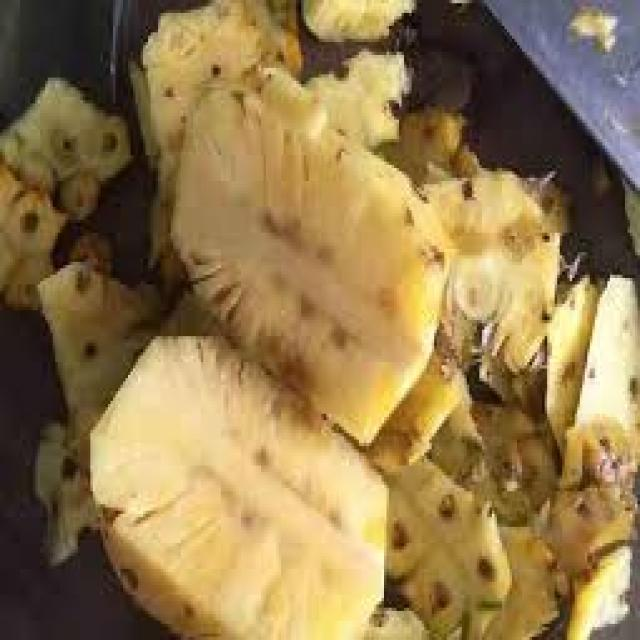organic waste: (176, 64, 449, 440), (88, 329, 391, 636), (138, 0, 296, 294), (35, 262, 158, 562), (422, 171, 564, 372), (382, 456, 509, 637), (0, 68, 128, 220), (560, 268, 638, 475), (442, 404, 557, 514), (374, 352, 467, 472), (466, 517, 554, 637), (304, 48, 409, 148), (540, 268, 594, 456), (542, 478, 635, 582), (0, 155, 60, 307), (376, 103, 474, 181), (562, 540, 628, 637), (299, 0, 414, 36), (63, 226, 110, 272), (565, 10, 615, 48), (374, 601, 424, 634)
